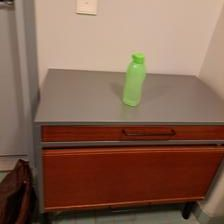bottle: (121, 51, 149, 106)
